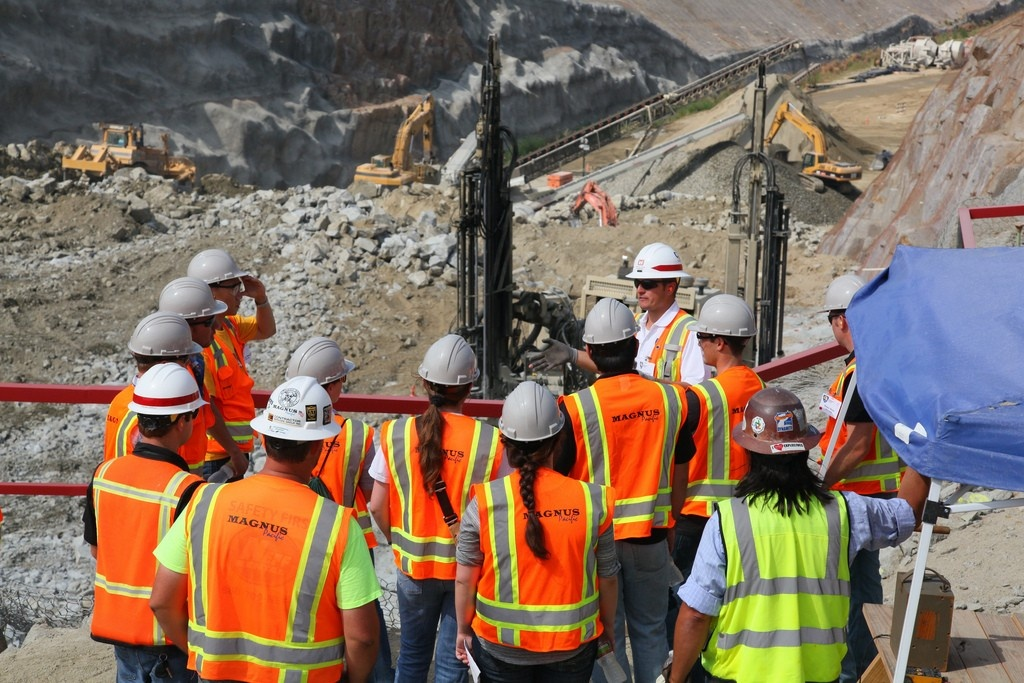white: (260, 376, 337, 466), (131, 363, 202, 444), (499, 379, 562, 460), (695, 294, 760, 366), (128, 311, 194, 374), (421, 332, 477, 404), (157, 277, 218, 342), (286, 336, 348, 399), (582, 298, 640, 365), (186, 250, 244, 314), (821, 273, 867, 348), (630, 242, 679, 308)
